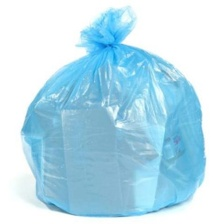plastic_bag: (11, 2, 208, 222)
